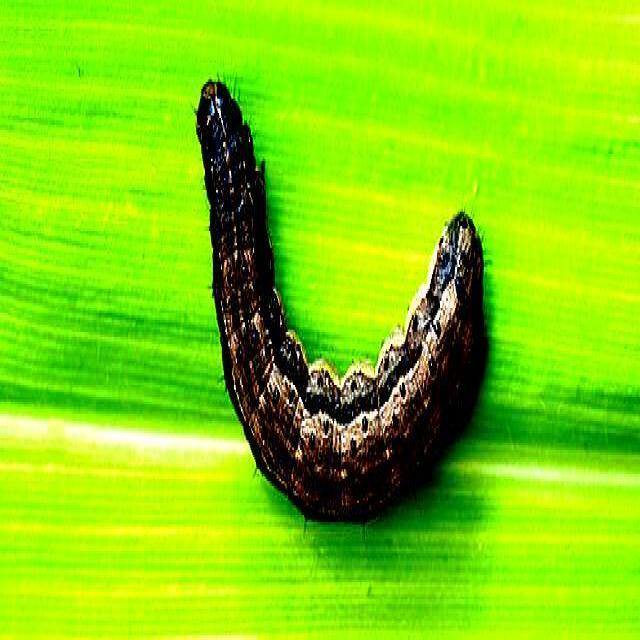armyworm: (193, 72, 487, 525)
